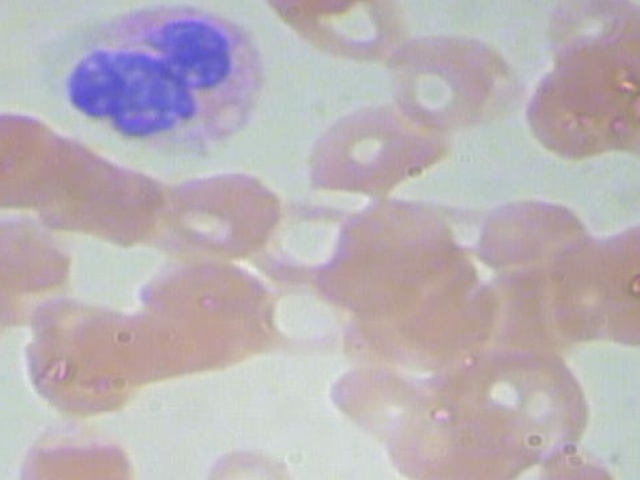RBC: (449, 332, 606, 463), (282, 98, 471, 201), (518, 40, 640, 171), (385, 20, 521, 126), (129, 244, 282, 335), (473, 191, 596, 285), (165, 163, 288, 257), (249, 264, 372, 358), (86, 164, 208, 258), (23, 152, 145, 246), (247, 191, 369, 285), (0, 130, 119, 224), (321, 354, 442, 438), (266, 0, 414, 62), (574, 216, 640, 351), (541, 0, 640, 85), (190, 437, 312, 480), (0, 107, 47, 201)
WBC: (48, 0, 290, 169)
